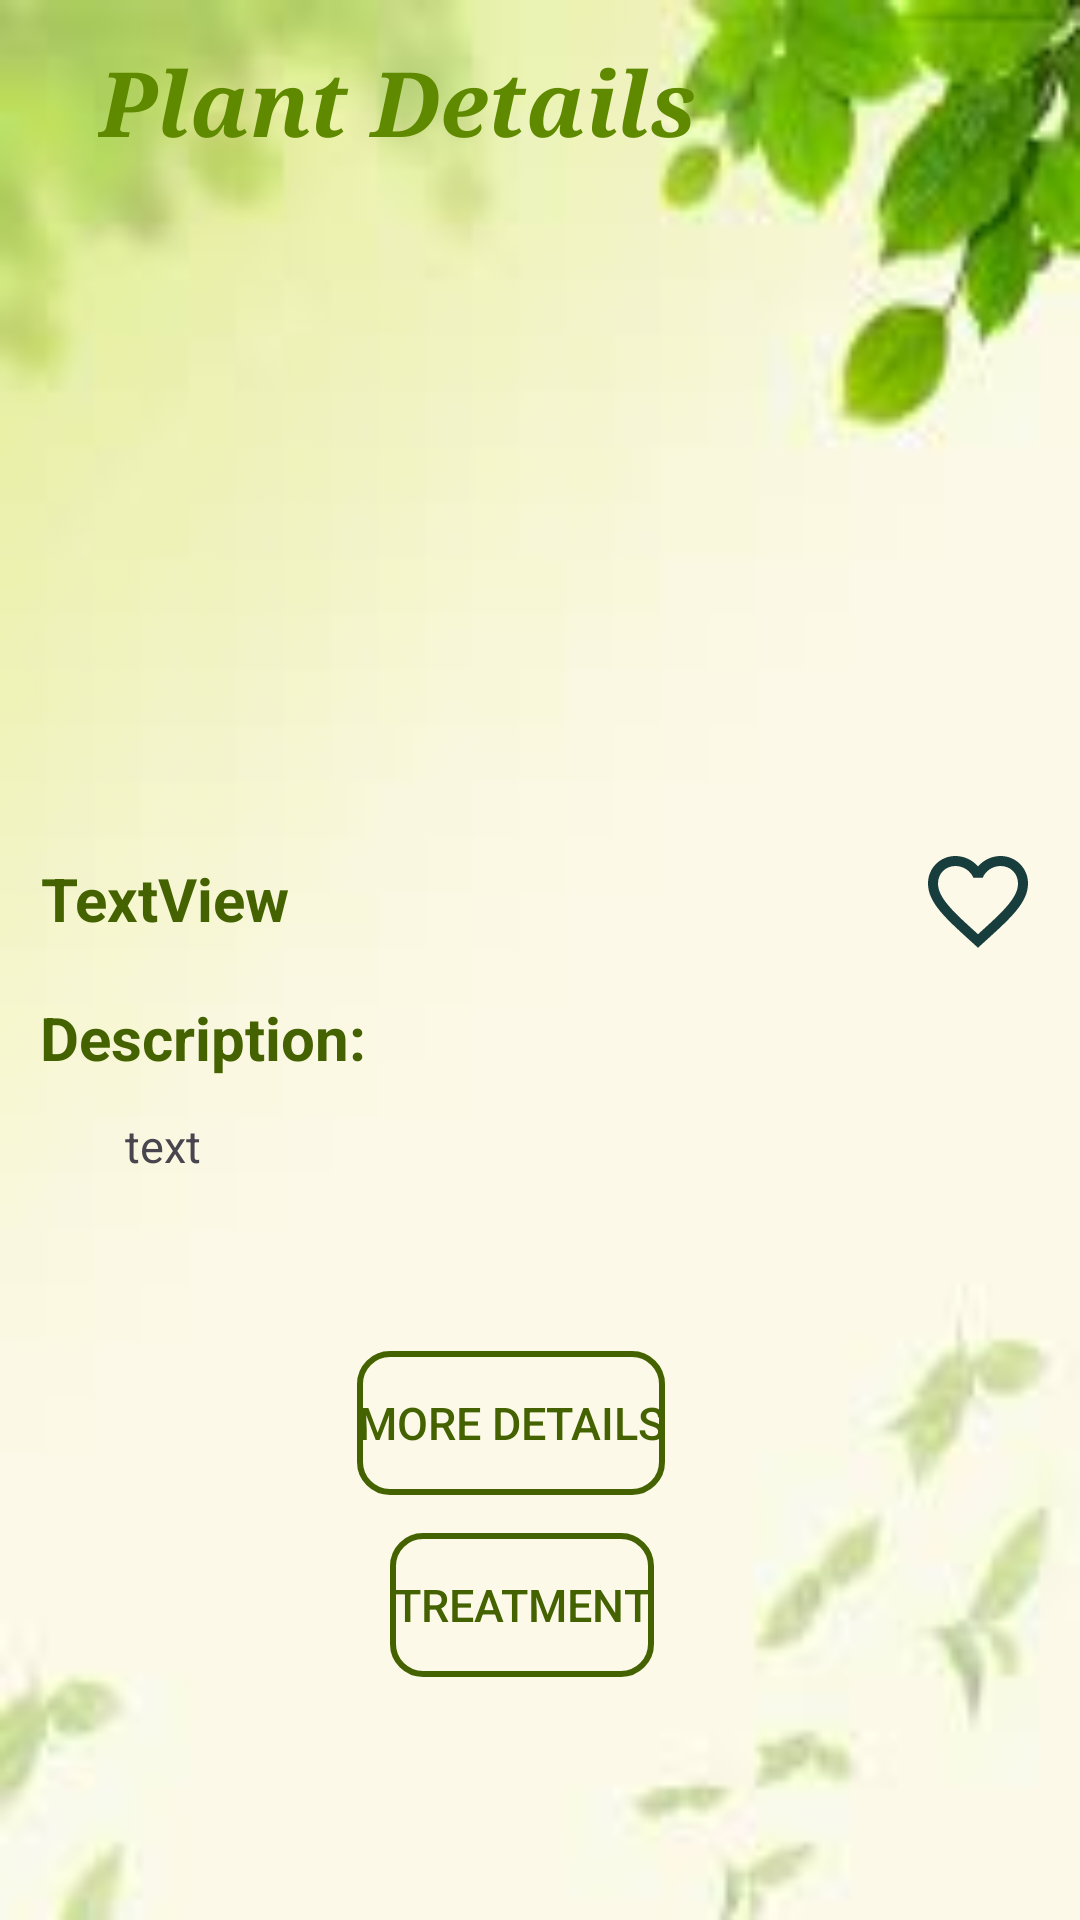

Locate icon controls on the screen. Image size 1080w x 1920h, boxes as box=[x1, y1, x2, y2].
favorite border: box=[928, 856, 1028, 948]
